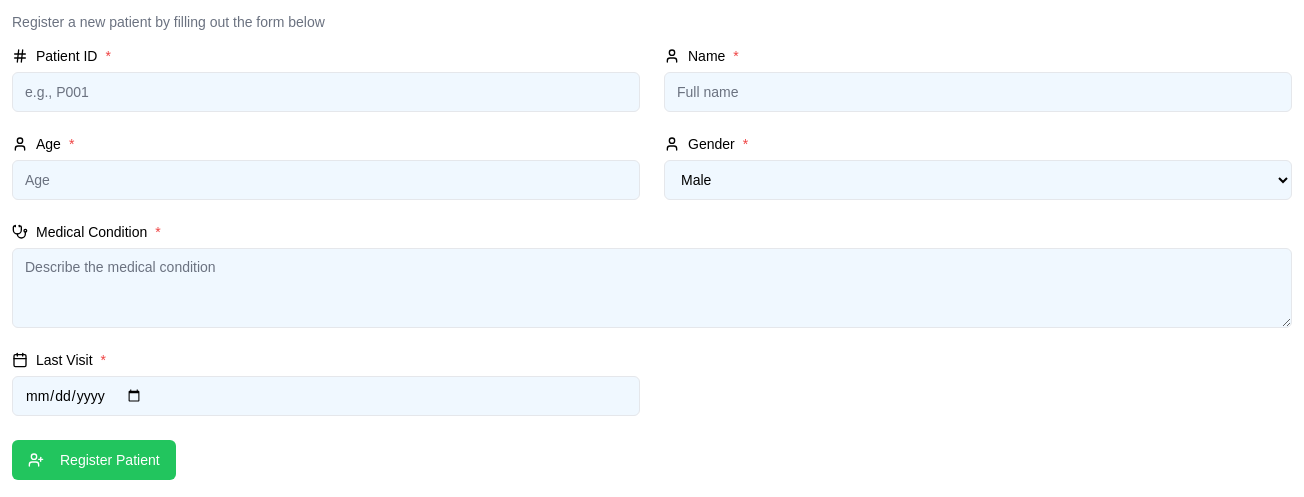
Scenario: Patient Registration Integration › should register a new patient with valid form input
This screenshot has width=1304, height=497.
# Fill out the form
Type "P001" into the field labelled "Patient ID *" at (326, 92), box [12,72,640,112]
Type "John Doe" into the field labelled "Name *" at (978, 92), box [664,72,1292,112]
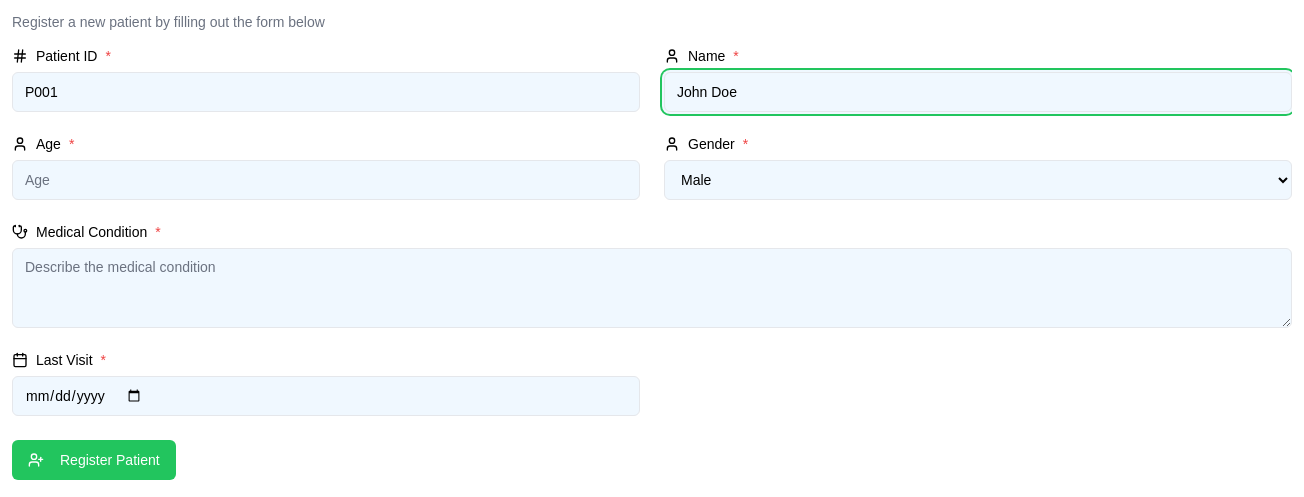
Type "45" into the number field labelled "Age *" at (326, 180), box [12,160,640,200]
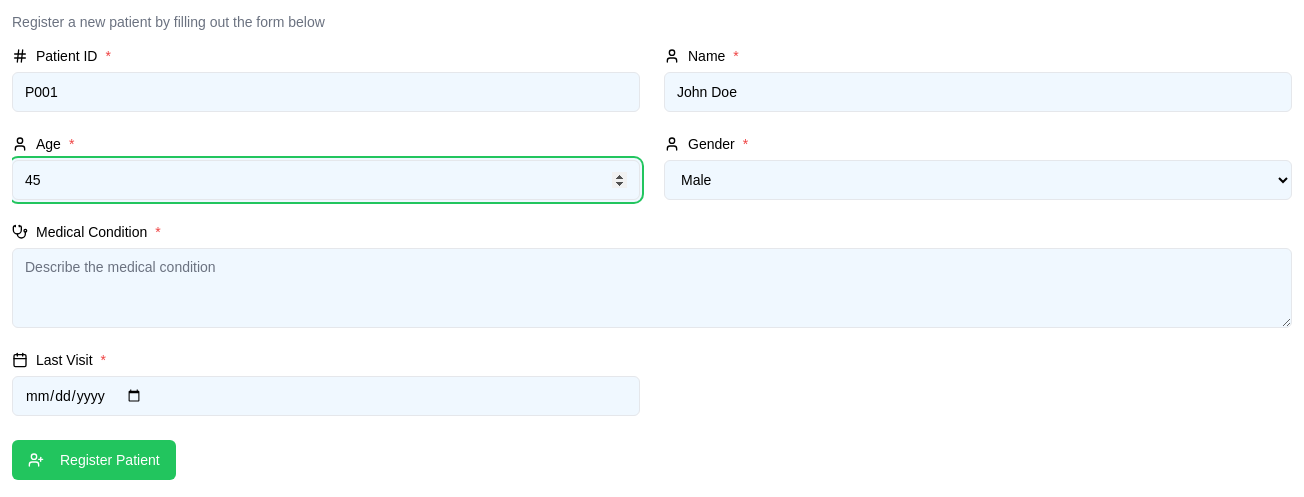
Select "Male" in the dropdown labelled "Gender *" at (978, 180), box [664,160,1292,200]
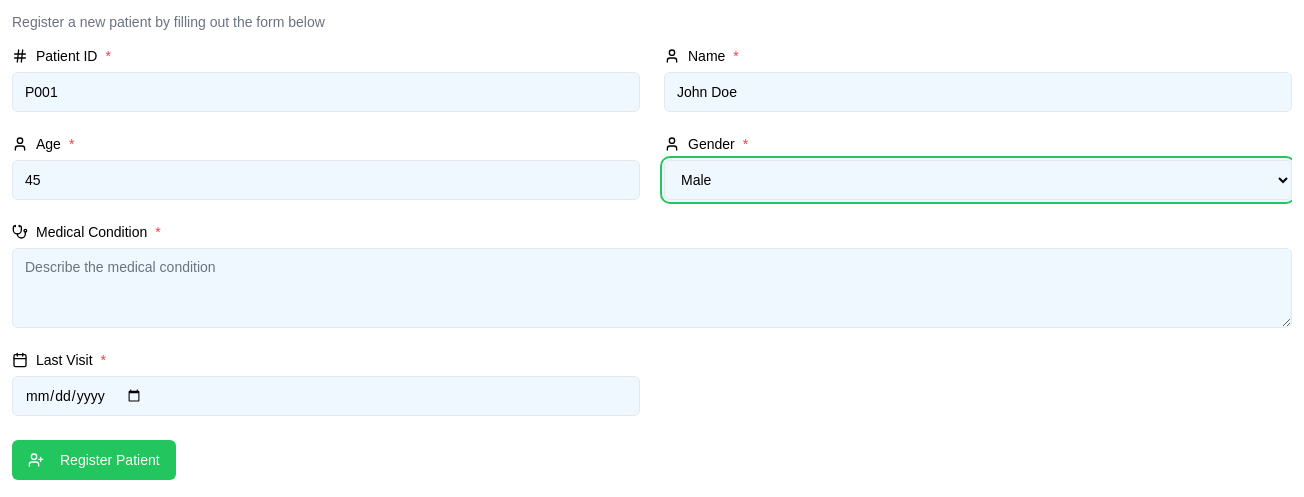
Type "Hypertension" into the text box labelled "Medical Condition *" at (652, 288), box [12,248,1292,328]
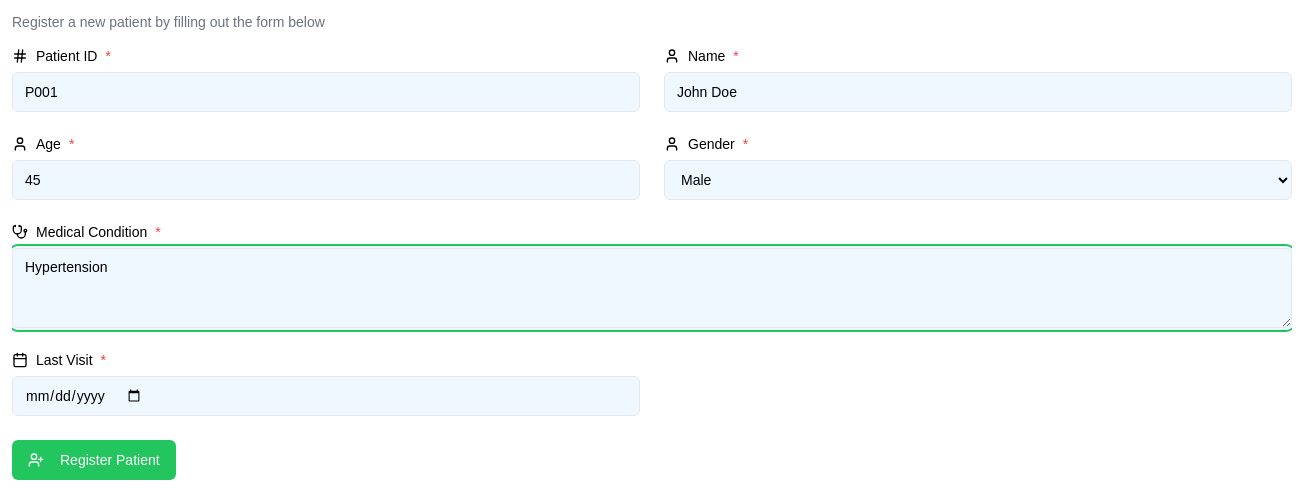
Type "2024-11-15" into the date field labelled "Last Visit *" at (326, 396), box [12,376,640,416]
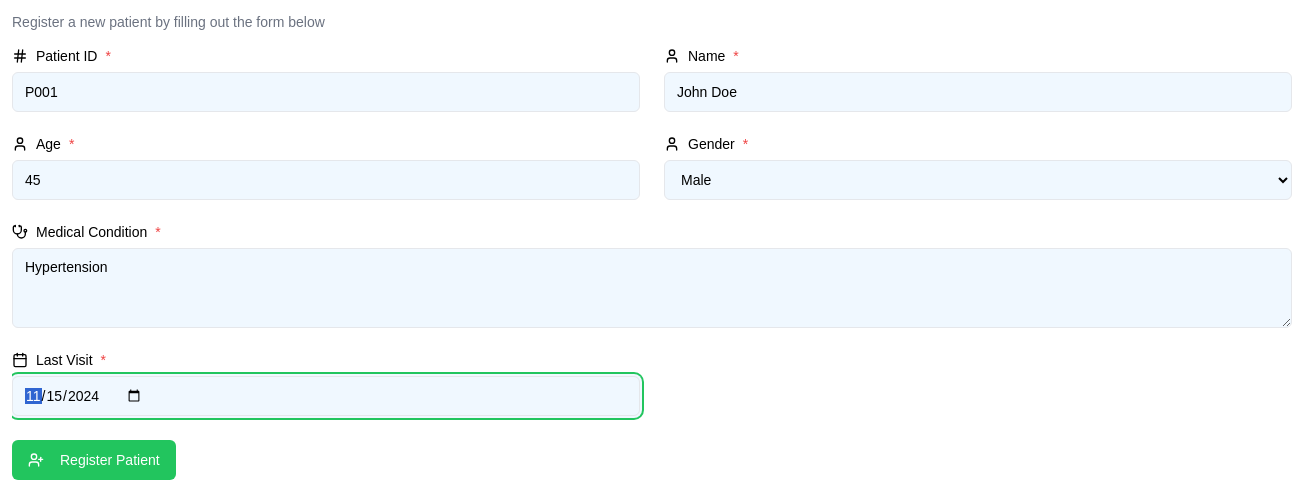
# Submit the form
Click the button "Register Patient" at (94, 460), box [12,440,176,480]
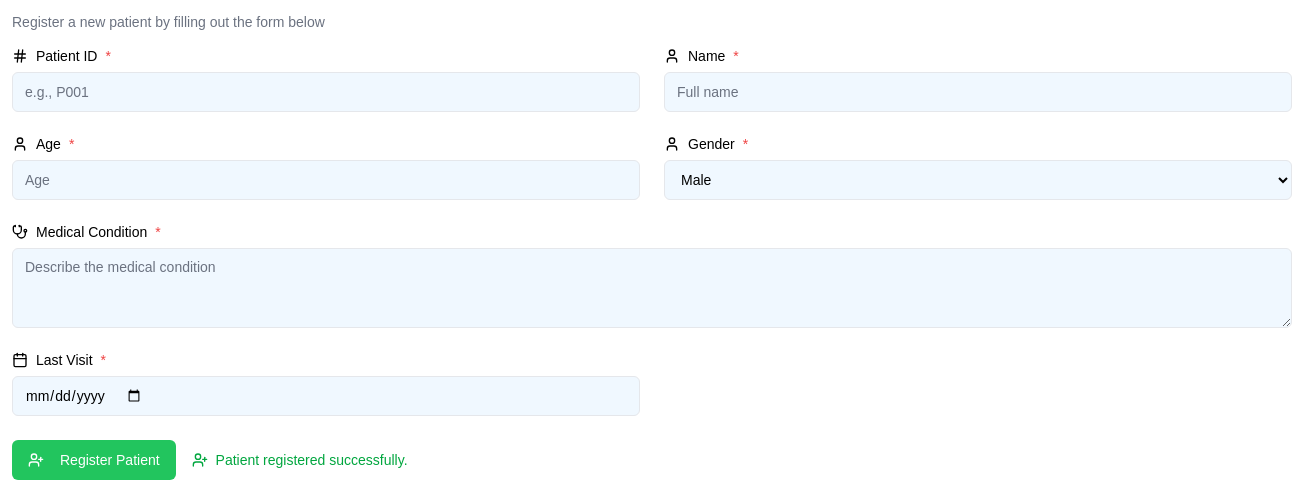
Result: the text "Patient registered successfully." is shown at [192,450,408,470]
